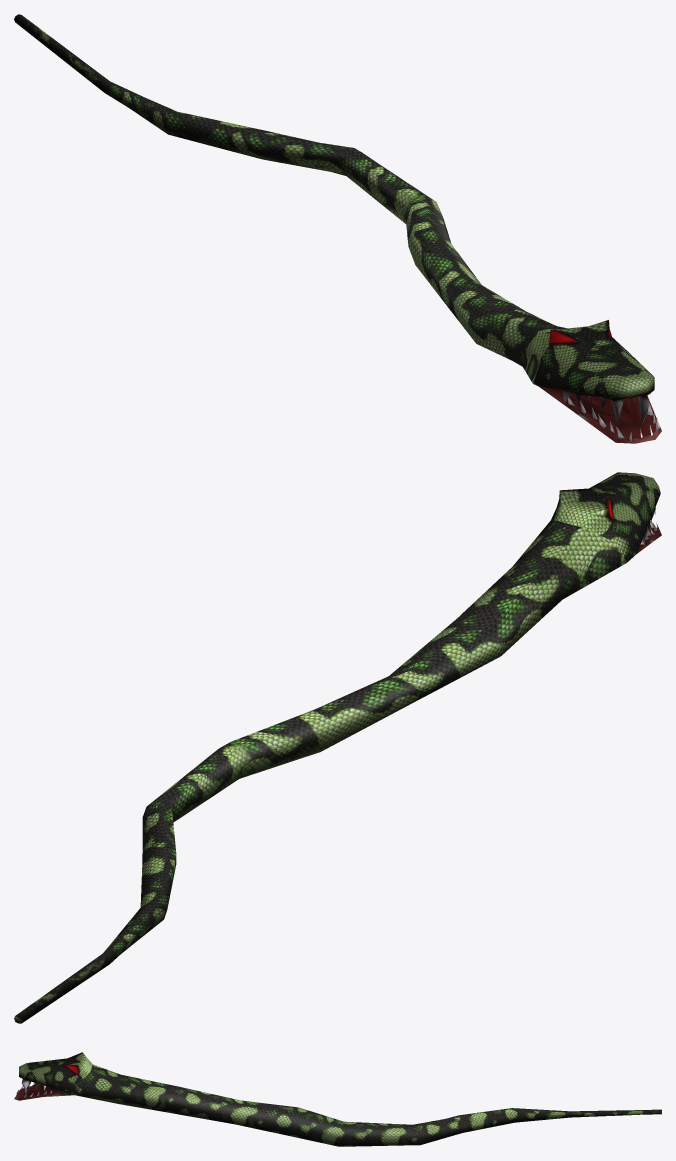
Rendered from snake.obj.
3 views of the same model, one above another, from view 1: azimuth 30°, elevation 25°; view 2: azimuth 150°, elevation 25°; view 3: azimuth 270°, elevation 25° (orthographic). The views are drawn at different scales.
Visible parts, largest first — view 1: Group; view 2: Group; view 3: Group.
Part boxes in pixels (x1,y1,x2,y2): Group: [14, 14, 661, 443]; Group: [14, 472, 661, 1023]; Group: [14, 1052, 661, 1146].
Bounding box in the file's own units: 15.38 × 10.67 × 103.
